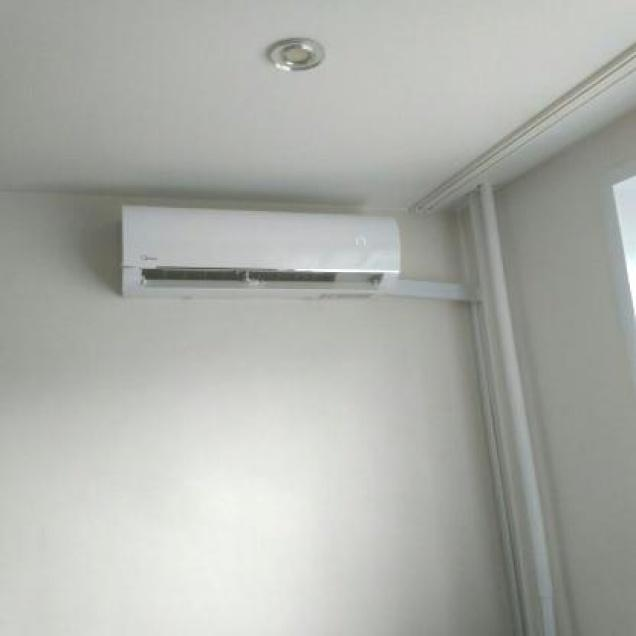AC: (119, 204, 402, 300)
